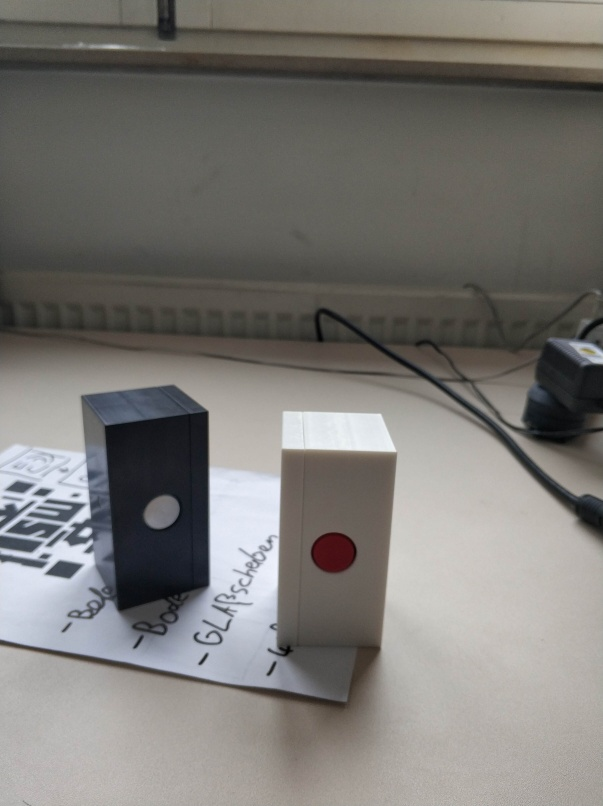black+black+silver: (79, 381, 214, 613)
white+white+red: (274, 409, 400, 652)
